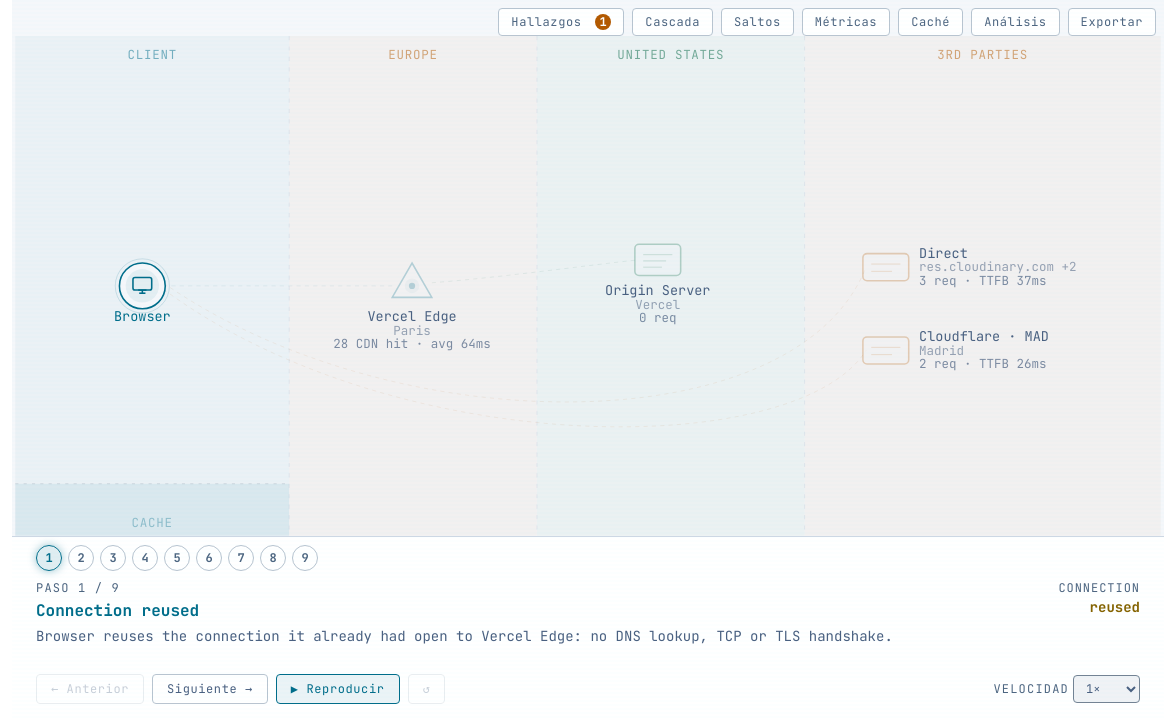
it: DiagramView in Spanish › speaks Spanish inside the waterfall
Click the button with aria-label "Mostrar u ocultar la cascada". click: point(673, 22)
box: [632,8,713,36]
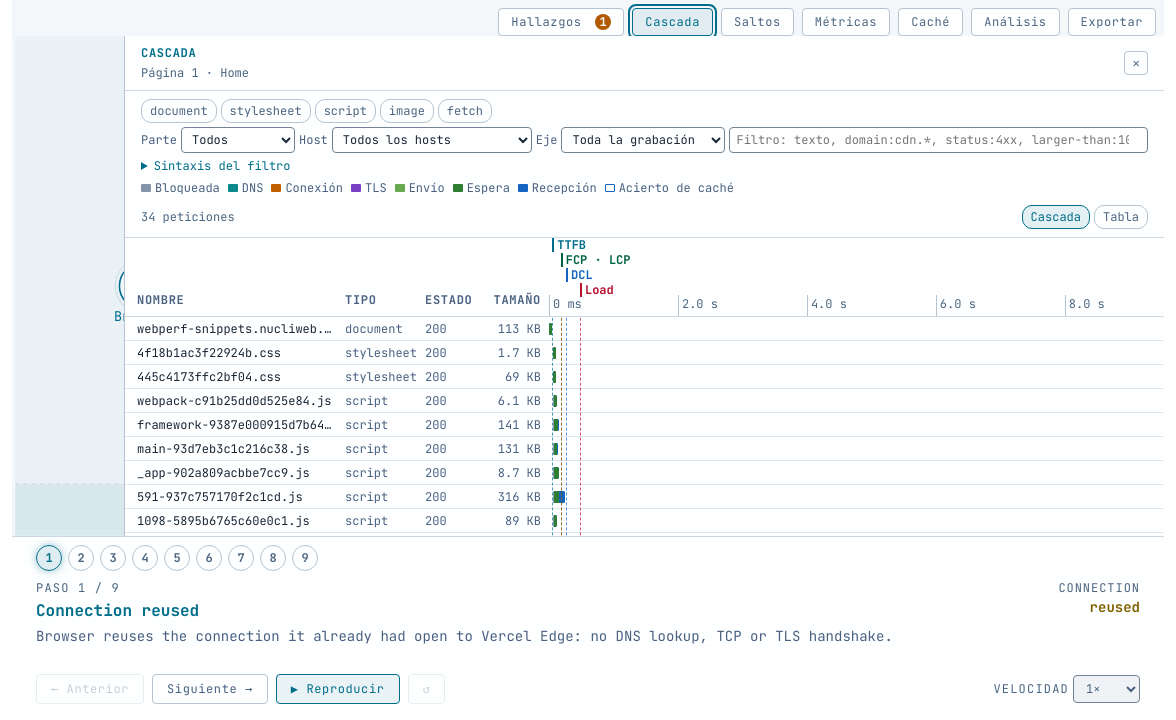
Expected: the search field named "Filtrar las peticiones" is shown, [729,127,1148,153]
Expected: the button "Tabla" is shown, [1094,205,1148,229]
